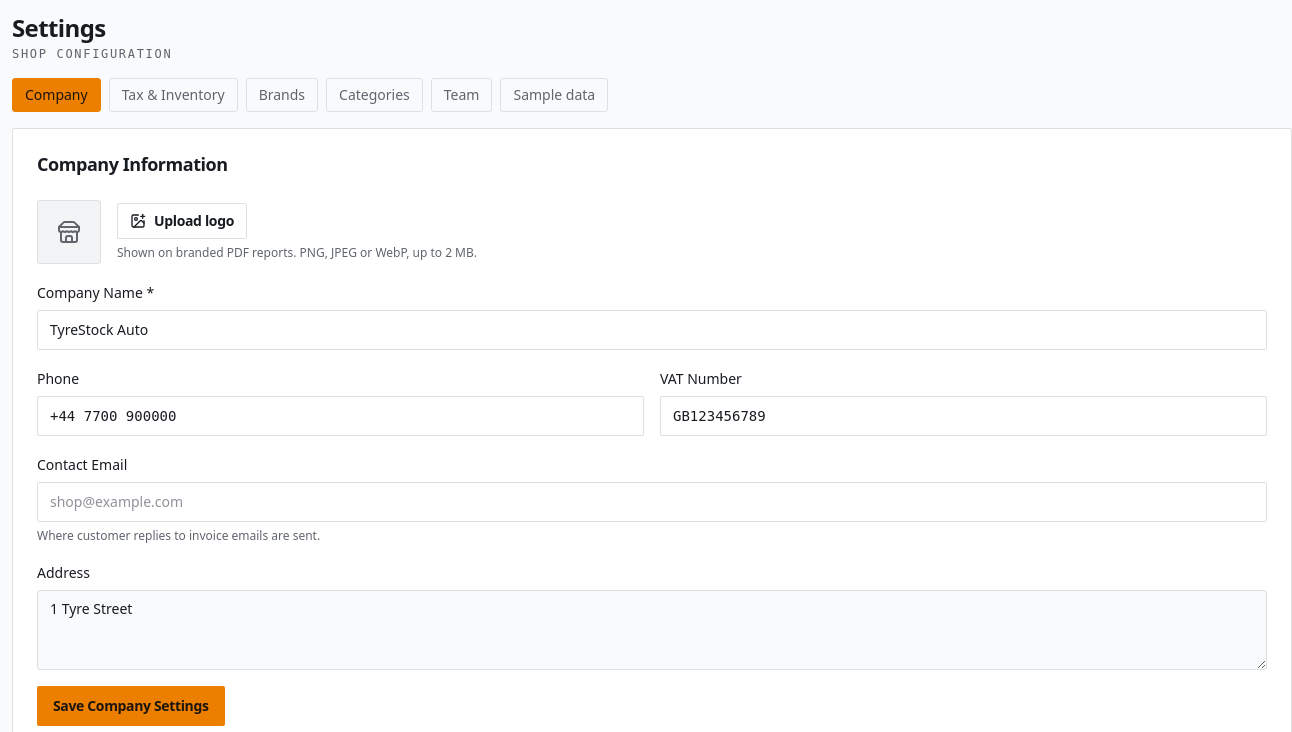
it: SettingsPage › shows team members and pending invites on the Team tab
Click the tab "Team" at (462, 95), box [431,78,492,112]
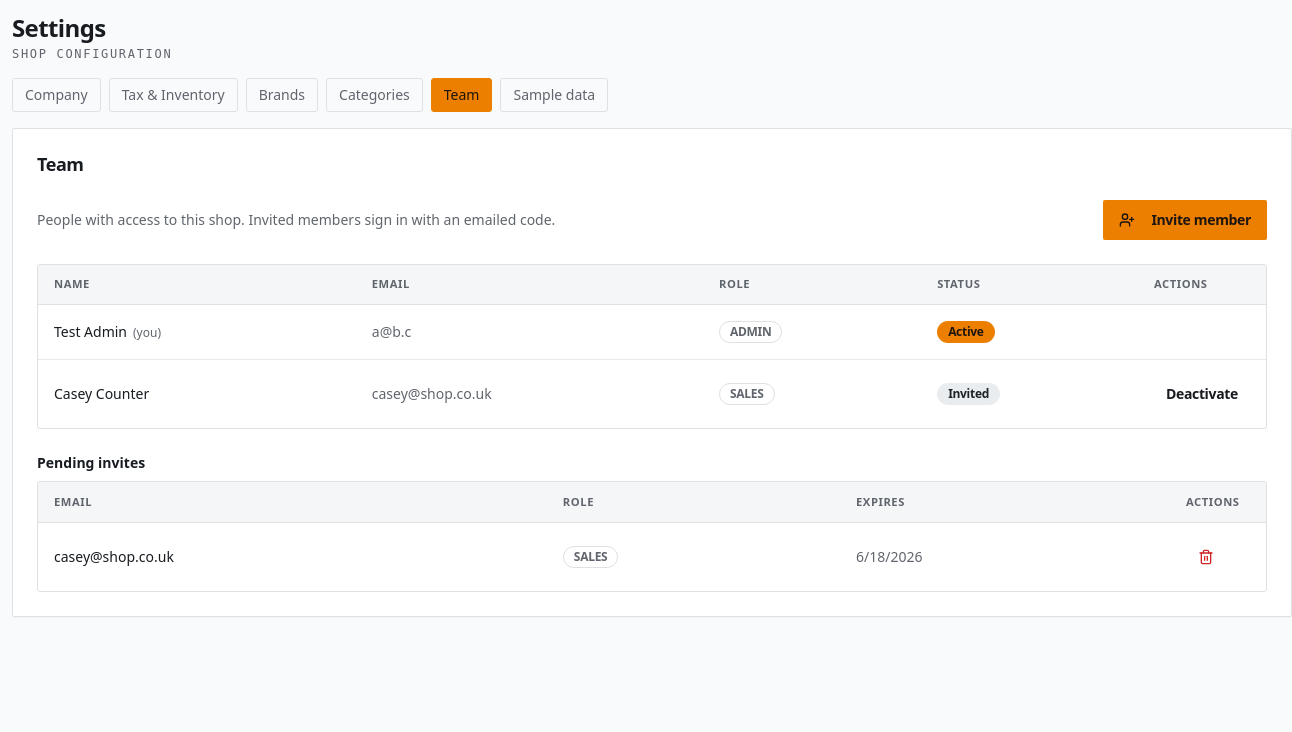
Expected: the text "Casey Counter" is shown, [38,360,356,428]
Expected: the heading "Pending invites" is shown, [37,453,145,472]
Expected: the button "Deactivate" is shown, [1154,376,1250,412]
